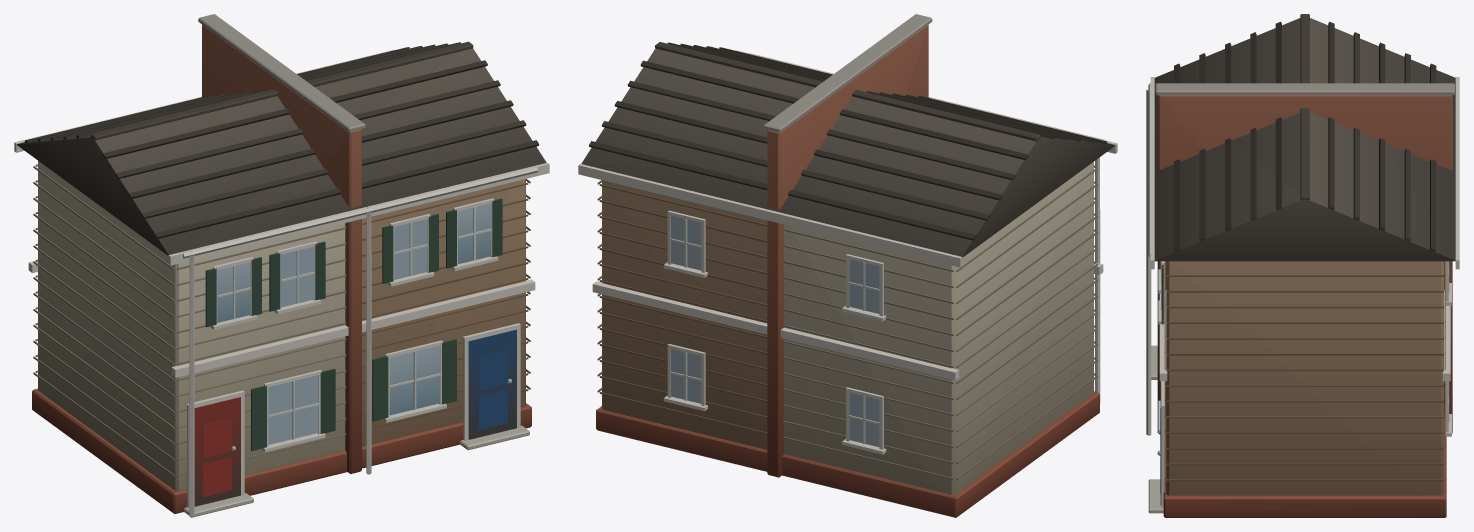
File: townhouse_duplex.glb
3 renders of one model, left to right at view 1: azimuth 30°, elevation 25°; view 2: azimuth 150°, elevation 25°; view 3: azimuth 270°, elevation 25°, orthographic.
Parts seen in each view (by area): view 1: townhouse_duplex; view 2: townhouse_duplex; view 3: townhouse_duplex.
Part boxes in pixels (x1,y1,x2,y2): townhouse_duplex: (14, 14, 549, 517); townhouse_duplex: (578, 14, 1117, 517); townhouse_duplex: (1146, 14, 1459, 517).
Size of the model in its own units: 7.56 by 6.6 by 5.42.
